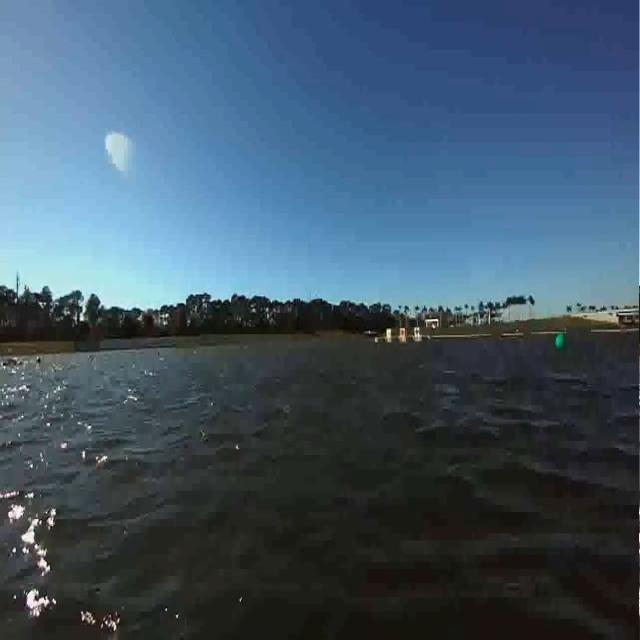green-buoy: (554, 332, 564, 347)
